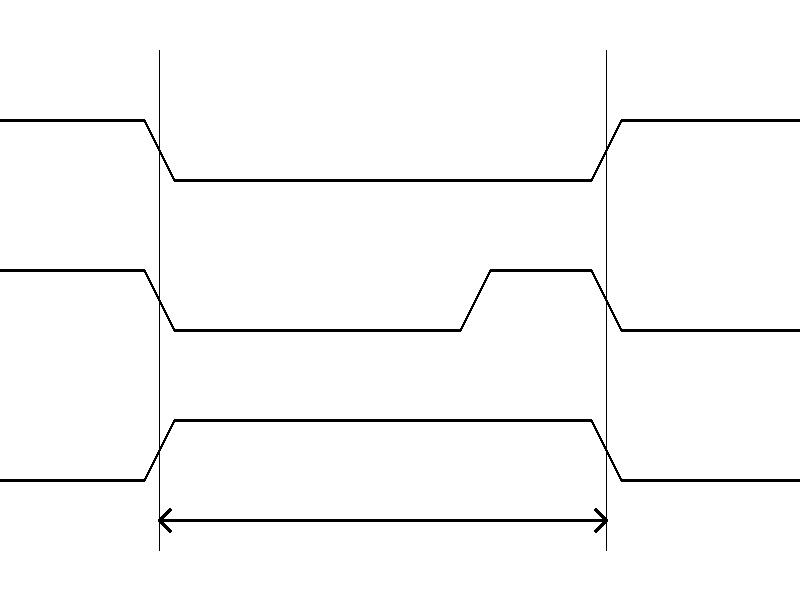double_arrow: (159, 505, 606, 535)
